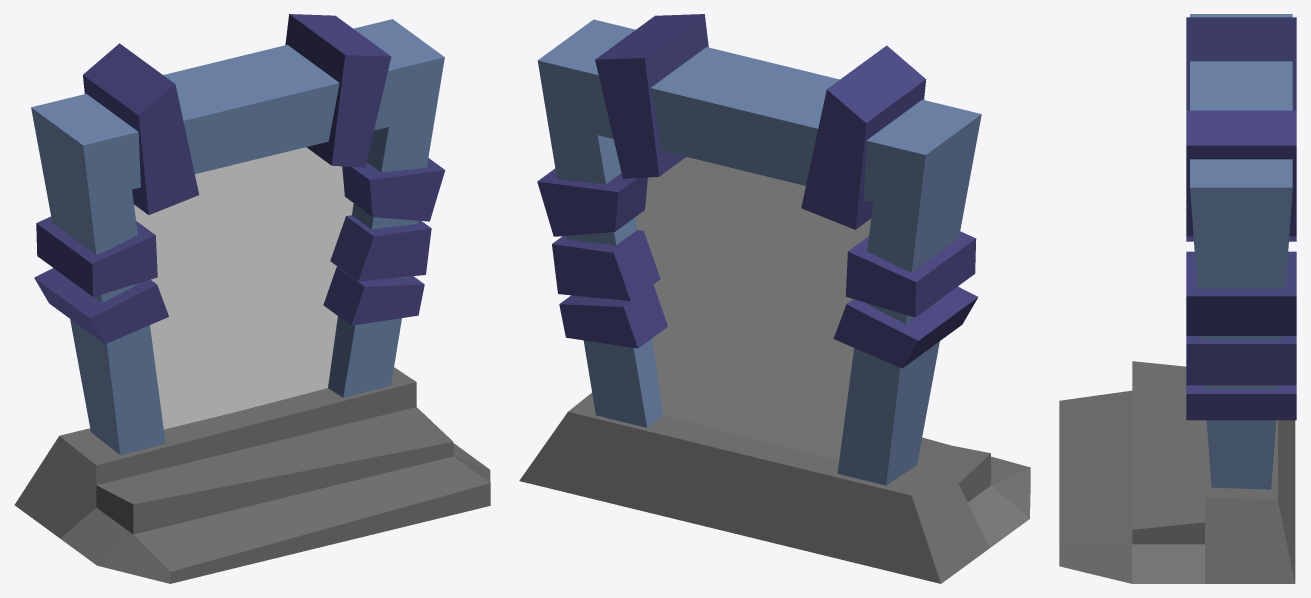
The model's file is portal.fbx.
3 renders of one model, left to right at view 1: azimuth 30°, elevation 25°; view 2: azimuth 150°, elevation 25°; view 3: azimuth 270°, elevation 25°, orthographic. The views are drawn at different scales.
Parts seen in each view (by area): view 1: Portal; view 2: Portal; view 3: Portal.
Part boxes in pixels (x1,y1,x2,y2): Portal: (14,14,490,583); Portal: (519,14,1030,583); Portal: (1059,14,1296,583).
Size of the model in its own units: 723 by 766 by 384.
